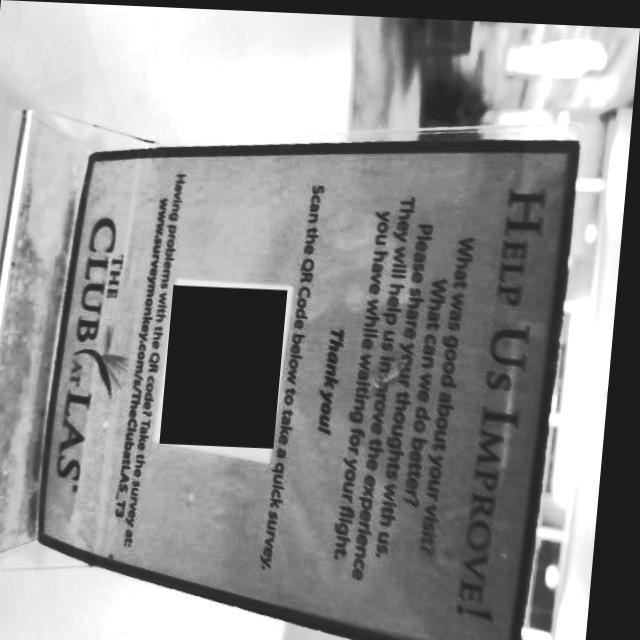qr_code: (167, 283, 292, 445)
